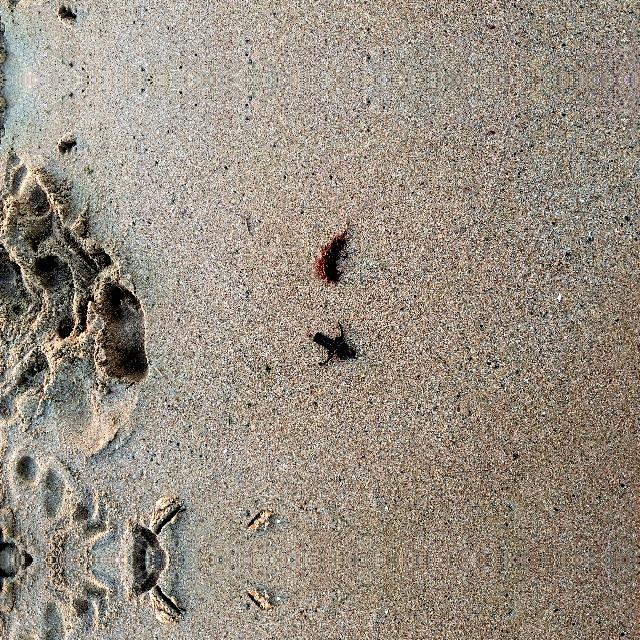Plastic: (311, 319, 359, 367)
